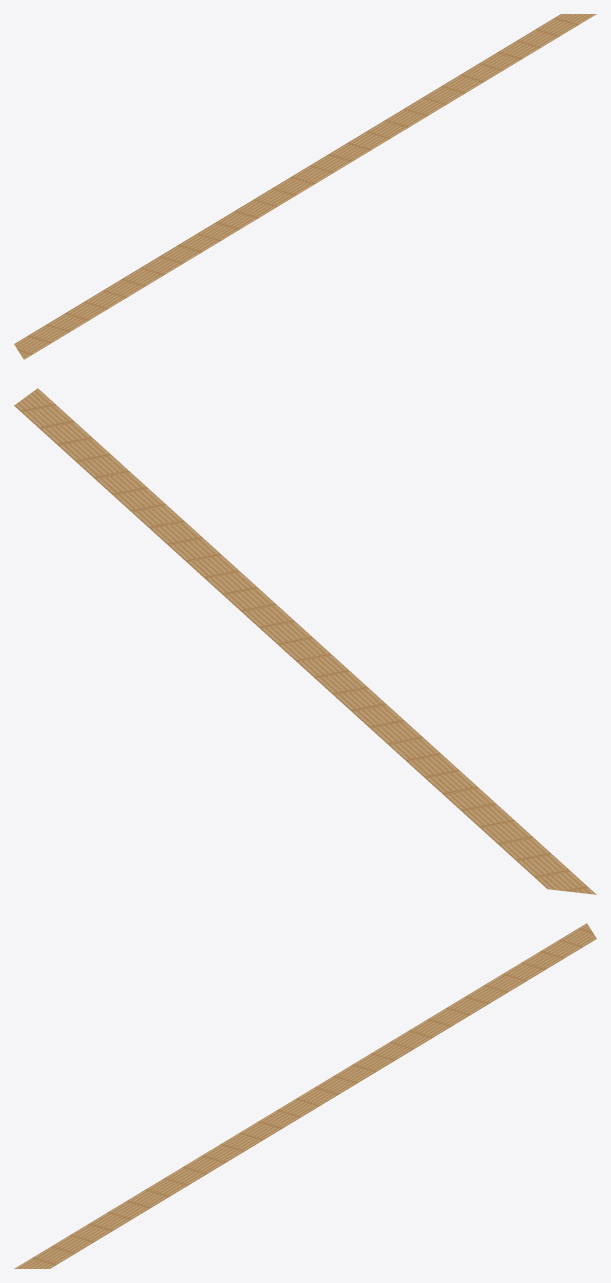
The model's file is kd_stage_135ebf_2_58.glb.
3 views of the same model, one above another, from view 1: azimuth 90°, elevation 25°; view 2: azimuth 150°, elevation 25°; view 3: azimuth 270°, elevation 25° (orthographic). The views are drawn at different scales.
Visible parts, largest first — view 1: kd_stage_135ebf_2_58; view 2: kd_stage_135ebf_2_58; view 3: kd_stage_135ebf_2_58.
Part boxes in pixels (left/top/right/bottom): kd_stage_135ebf_2_58: left=14, top=14, right=596, bottom=359; kd_stage_135ebf_2_58: left=14, top=388, right=596, bottom=894; kd_stage_135ebf_2_58: left=14, top=923, right=596, bottom=1268.
Bounding box in the file's own units: 12.19 × 2.38e-07 × 8.69.
1 material, 1 textured.
